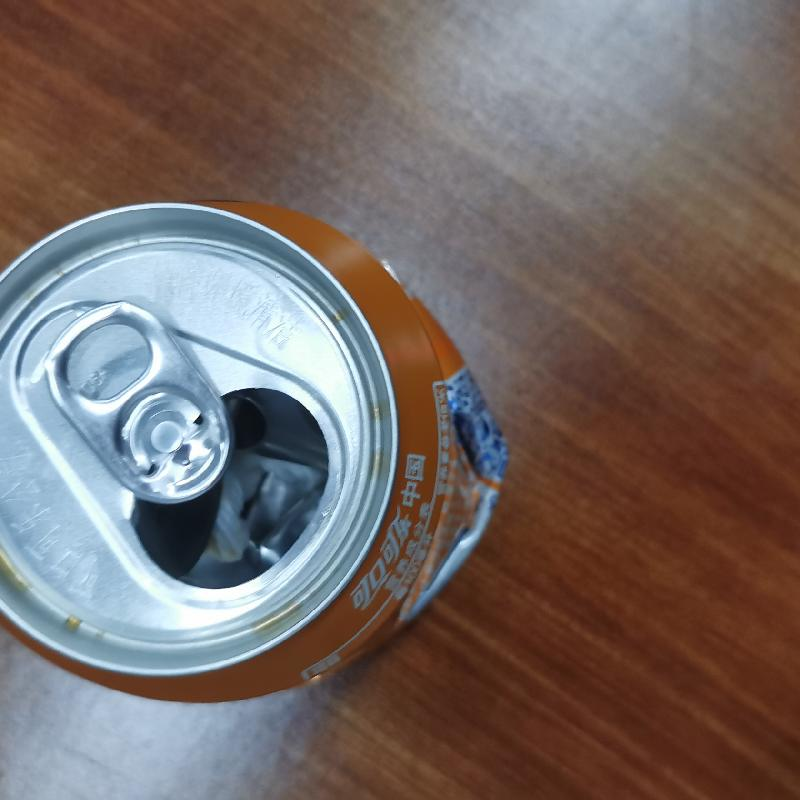cans: (5, 199, 514, 705)
